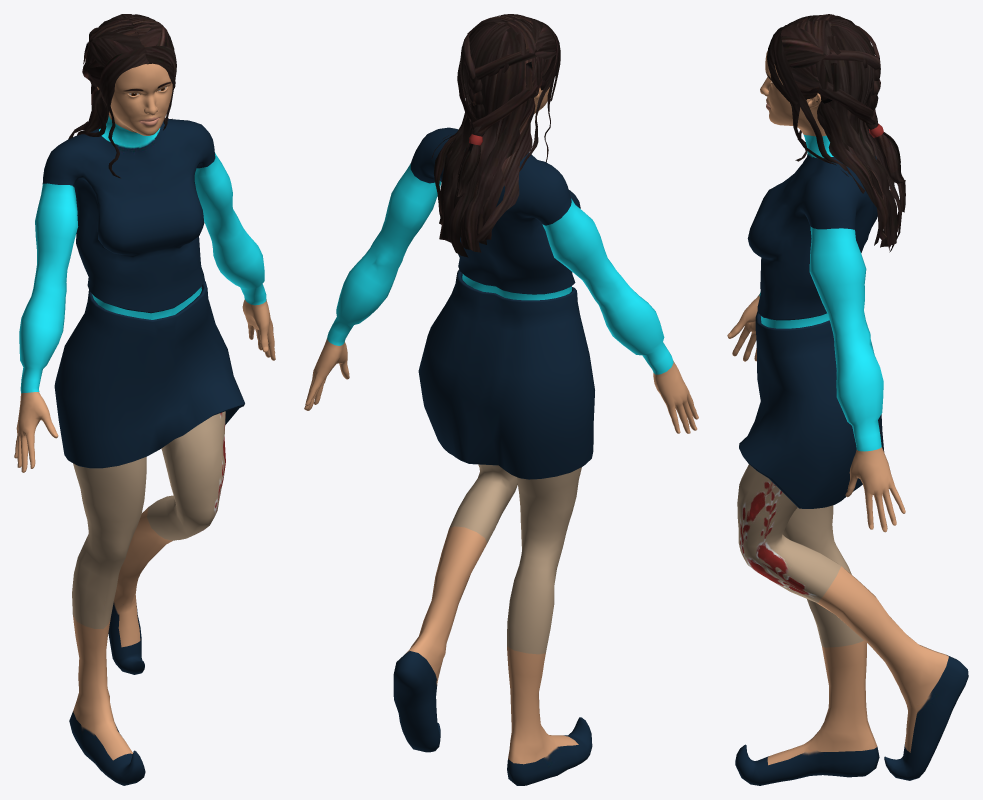
File: player_char_zenobia_01(1).fbx
3 renders of one model, left to right at view 1: azimuth 30°, elevation 25°; view 2: azimuth 150°, elevation 25°; view 3: azimuth 270°, elevation 25°, orthographic. The views are drawn at different scales.
Visible parts, largest first — view 1: textureTest_001:polySurface1, textureTest_001:polySurface2, textureTest_001:polySurface3, textureTest_001:polySurface95; view 2: textureTest_001:polySurface1, textureTest_001:polySurface3, textureTest_001:polySurface2, textureTest_001:polySurface95; view 3: textureTest_001:polySurface2, textureTest_001:polySurface1, textureTest_001:polySurface95, textureTest_001:polySurface3.
Part boxes in pixels (box(x1,y1,x2,y2)): textureTest_001:polySurface1: box(14, 63, 275, 472); textureTest_001:polySurface2: box(69, 411, 225, 785); textureTest_001:polySurface3: box(54, 281, 244, 468); textureTest_001:polySurface95: box(68, 14, 176, 178); textureTest_001:polySurface1: box(304, 16, 698, 433); textureTest_001:polySurface3: box(418, 269, 594, 479); textureTest_001:polySurface2: box(393, 464, 592, 785); textureTest_001:polySurface95: box(431, 14, 560, 257); textureTest_001:polySurface2: box(735, 464, 968, 785); textureTest_001:polySurface1: box(727, 51, 905, 532); textureTest_001:polySurface95: box(767, 14, 905, 252); textureTest_001:polySurface3: box(739, 311, 884, 508).
Bounding box in the file's own units: 1.97 × 4.38 × 1.23.
5 materials, 5 textured.
